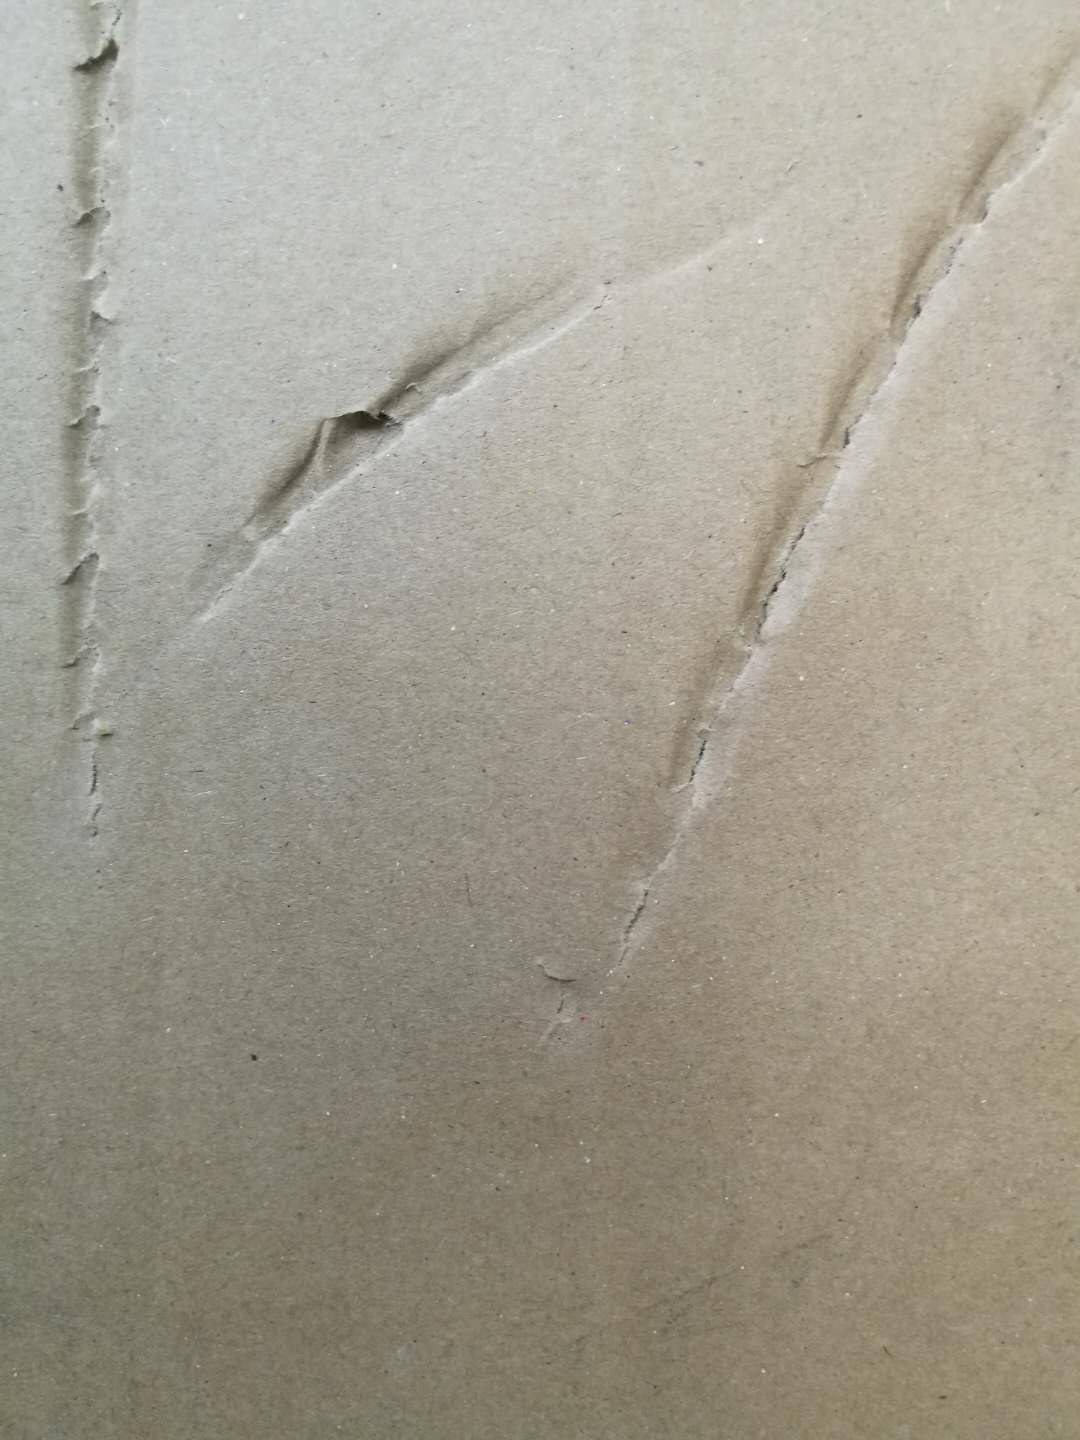defect: (512, 28, 1080, 1068), (155, 175, 817, 659), (15, 2, 192, 867)
